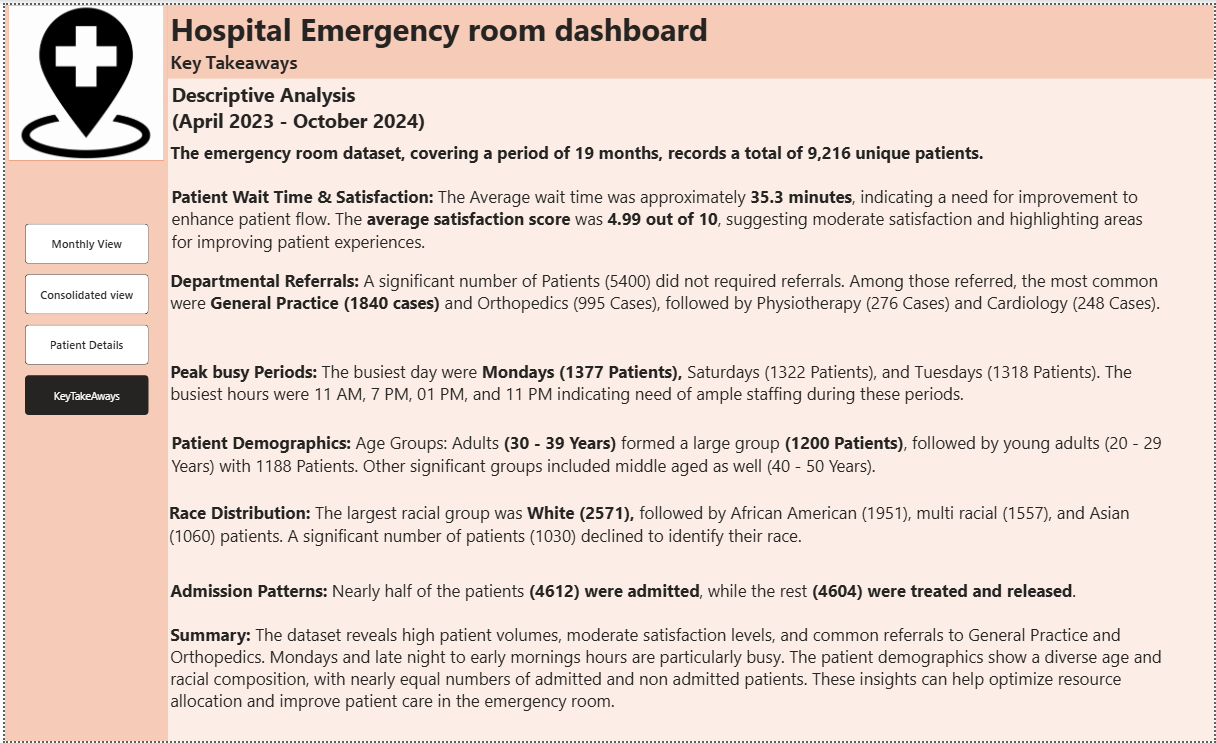

Layout of this report page (visuals, bound fields, positions):
{"tool":"powerbi","page":{"name":"KeyTakeAways","canvas":[2300,1400],"ordinal":3},"visuals":[{"type":"shape","box":[0,0,310,1400],"z":0},{"type":"shape","box":[309.8,0,1990.2,140],"z":1000},{"type":"textbox","box":[310,0,1087.5,102.5],"z":2000},{"type":"textbox","box":[310,80,433.3,83.3],"z":3000},{"type":"image","box":[8,0,294,296],"z":4000},{"type":"textbox","box":[312.5,140,920,147.5],"z":5000},{"type":"textbox","box":[310,255,1785,82.5],"z":6000},{"type":"textbox","box":[312.5,337.5,1892.5,160],"z":7000},{"type":"textbox","box":[310,497.5,1957.5,145],"z":8000},{"type":"textbox","box":[310,670,1895,115],"z":9000},{"type":"textbox","box":[312.5,805,1895,117.5],"z":10000},{"type":"textbox","box":[307.5,940,1895,122.5],"z":11000},{"type":"textbox","box":[310,1087.5,1895,82.5],"z":12000},{"type":"textbox","box":[310,1170,1957.5,230],"z":13000},{"type":"pageNavigator","box":[37.5,415,235,367.5],"z":14000}]}

Visuals, with their boxes in screenshot pixels (x1, y1, x2, y2), scaled from the page's 2300x1400 canvas onto the 1216x743 screenshot:
shape: rect(0, 0, 164, 742)
shape: rect(164, 0, 1215, 74)
textbox: rect(164, 0, 739, 54)
textbox: rect(164, 42, 393, 87)
image: rect(4, 0, 160, 157)
textbox: rect(165, 74, 652, 153)
textbox: rect(164, 135, 1108, 179)
textbox: rect(165, 179, 1166, 264)
textbox: rect(164, 264, 1199, 341)
textbox: rect(164, 356, 1166, 417)
textbox: rect(165, 427, 1167, 490)
textbox: rect(163, 499, 1164, 564)
textbox: rect(164, 577, 1166, 621)
textbox: rect(164, 621, 1199, 742)
pageNavigator: rect(20, 220, 144, 415)
